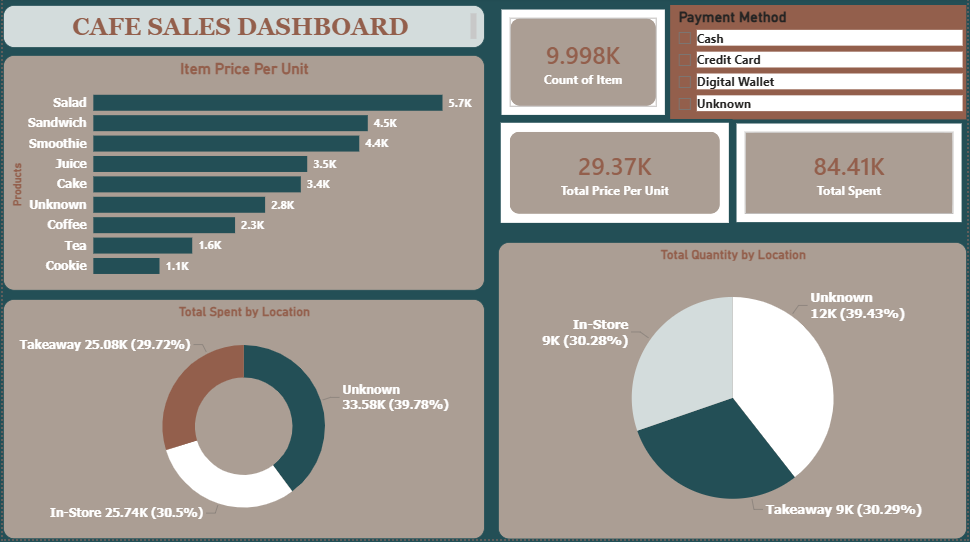

This screenshot's page, from the dashboard's own definition file:
{"tool":"powerbi","page":{"name":"Page 1","canvas":[1280,720],"ordinal":0},"visuals":[{"type":"clusteredBarChart","title":"Item Price Per Unit","fields":{"Category":["dirty_cafe_sales.Item"],"Y":["Sum(dirty_cafe_sales.Price Per Unit)"]},"box":[0,77.6,639.5,313.2],"z":0},{"type":"cardVisual","fields":{"Data":["Sum(dirty_cafe_sales.Total Spent)"]},"box":[968.8,162.4,311.7,143.4],"z":1000},{"type":"slicer","fields":{"Values":["dirty_cafe_sales.Payment Method"]},"box":[885.4,10.2,395.1,152.2],"z":2000},{"type":"cardVisual","fields":{"Data":["Sum(dirty_cafe_sales.Price Per Unit)"]},"box":[655.6,162.4,313.2,143.4],"z":3000},{"type":"donutChart","title":"Total Spent by Location","fields":{"Category":["dirty_cafe_sales.Location"],"Y":["Sum(dirty_cafe_sales.Total Spent)"]},"box":[0,401,639.5,319],"z":4000},{"type":"pieChart","title":"Total Quantity by Location","fields":{"Category":["dirty_cafe_sales.Location"],"Y":["Sum(dirty_cafe_sales.Quantity)"]},"box":[657.1,324.9,623.4,395.1],"z":5000},{"type":"textbox","box":[0,10.2,639.5,57.1],"z":6000},{"type":"cardVisual","fields":{"Data":["CountNonNull(dirty_cafe_sales.Item)"]},"box":[655.6,10.2,229.8,152.2],"z":7000}]}

Visuals, with their boxes in screenshot pixels (x1, y1, x2, y2), scaled from the page's 1280x720 canvas onto the 970x542 screenshot:
"Item Price Per Unit" clusteredBarChart: region(0, 58, 485, 294)
cardVisual - Sum(dirty_cafe_sales.Total Spent): region(734, 122, 969, 230)
slicer - dirty_cafe_sales.Payment Method: region(671, 8, 969, 122)
cardVisual - Sum(dirty_cafe_sales.Price Per Unit): region(497, 122, 734, 230)
"Total Spent by Location" donutChart: region(0, 302, 485, 541)
"Total Quantity by Location" pieChart: region(498, 245, 969, 541)
textbox: region(0, 8, 485, 51)
cardVisual - CountNonNull(dirty_cafe_sales.Item): region(497, 8, 671, 122)
